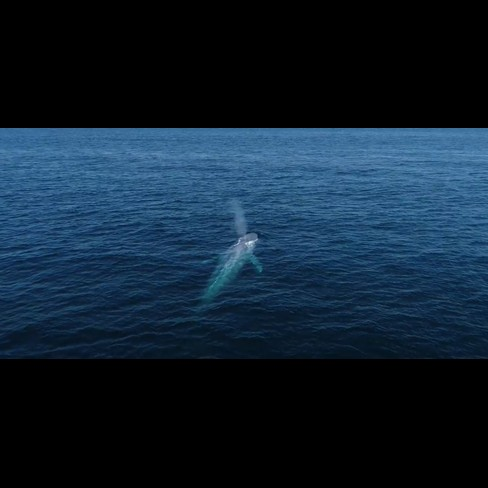bluewhale: (197, 230, 266, 314)
